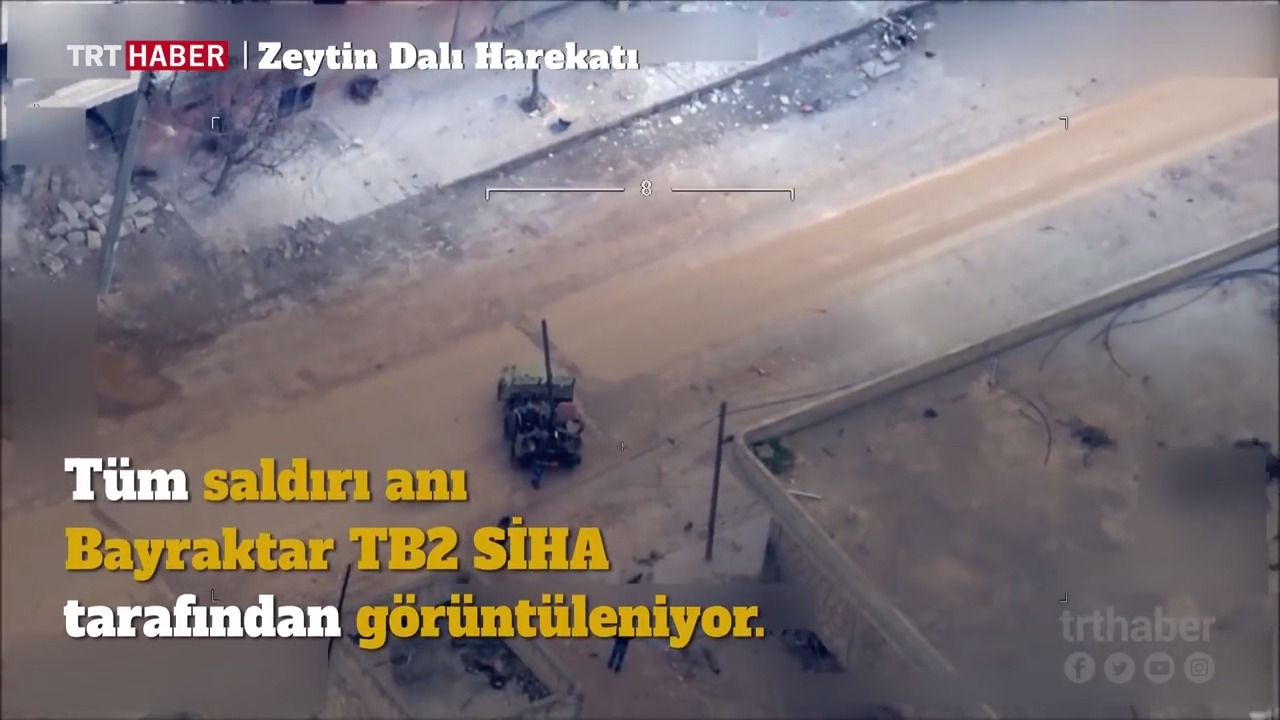arac: (490, 338, 592, 482)
